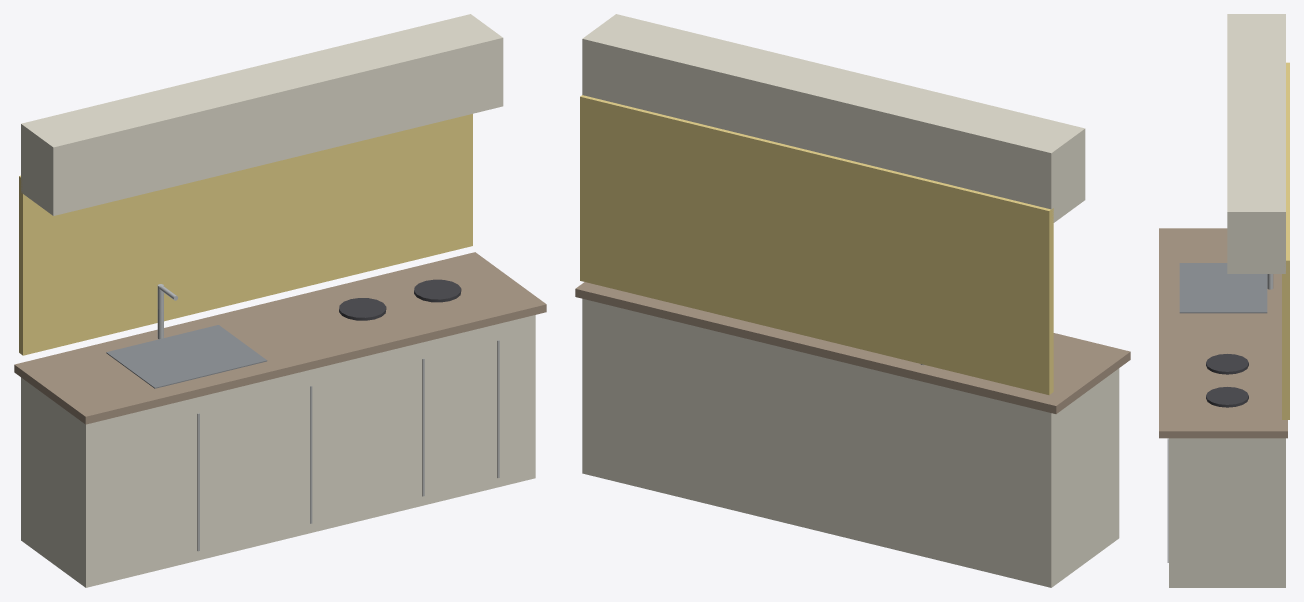
Rendered from Kitchen_counter_set.glb.
3 views of the same model, side by side, from view 1: azimuth 30°, elevation 25°; view 2: azimuth 150°, elevation 25°; view 3: azimuth 270°, elevation 25° (orthographic). The views are drawn at different scales.
Parts seen in each view (by area): view 1: Kitchen_counter_set; view 2: Kitchen_counter_set; view 3: Kitchen_counter_set.
Part boxes in pixels (<box>): Kitchen_counter_set: <box>14,14,546,587</box>; Kitchen_counter_set: <box>575,14,1130,587</box>; Kitchen_counter_set: <box>1159,14,1289,587</box>.
Size of the model in its own units: 2.46 by 2.13 by 0.67.
